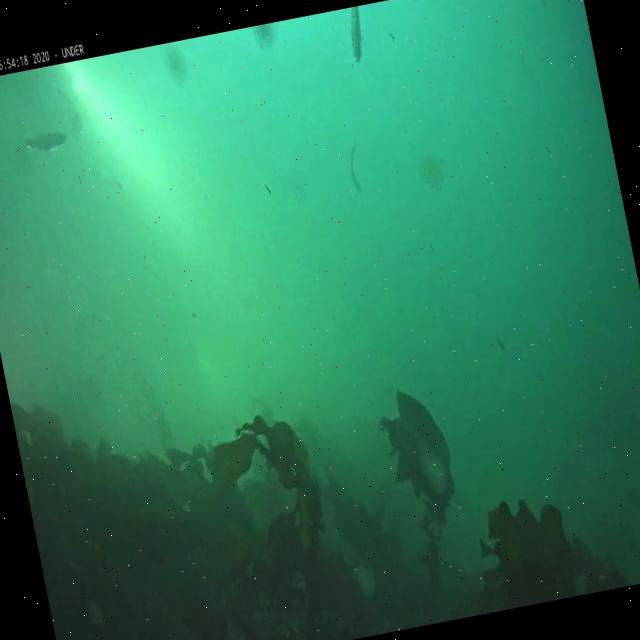fish: (23, 128, 70, 160), (344, 7, 369, 67), (342, 144, 363, 193)
